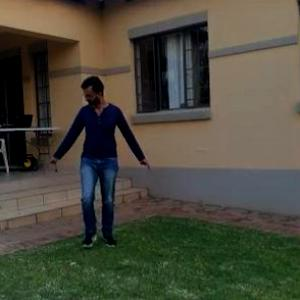land: (41, 68, 159, 262)
